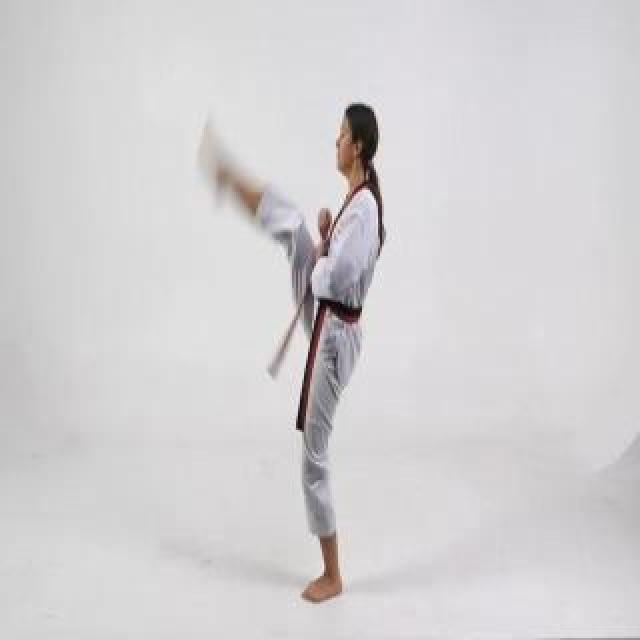fight: (148, 50, 470, 640)
